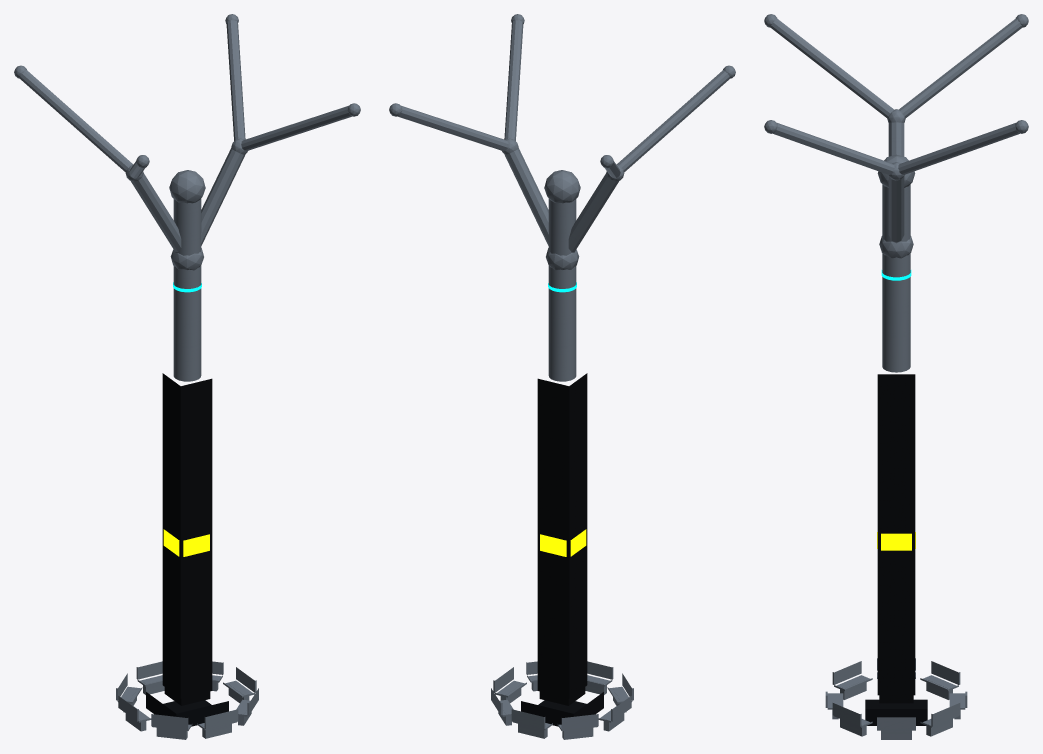
3 views of the same model, side by side, from view 1: azimuth 30°, elevation 25°; view 2: azimuth 150°, elevation 25°; view 3: azimuth 270°, elevation 25° (orthographic). The views are drawn at different scales.
Parts seen in each view (by area): view 1: Trunk_Clad, Tree_Steel, Bench_Ring, Pedestal_Concrete, Score_Band; view 2: Trunk_Clad, Tree_Steel, Bench_Ring, Pedestal_Concrete, Score_Band; view 3: Tree_Steel, Trunk_Clad, Bench_Ring, Pedestal_Concrete, Score_Band.
Part boxes in pixels (box(x1,y1,x2,y2)): Trunk_Clad: box(162, 373, 212, 698); Tree_Steel: box(14, 14, 360, 381); Bench_Ring: box(116, 661, 258, 739); Pedestal_Concrete: box(146, 692, 228, 726); Score_Band: box(163, 529, 209, 556); Trunk_Clad: box(537, 373, 587, 698); Tree_Steel: box(389, 14, 735, 381); Bench_Ring: box(491, 661, 633, 739); Pedestal_Concrete: box(521, 692, 603, 726); Score_Band: box(540, 529, 586, 556); Tree_Steel: box(764, 14, 1028, 372); Trunk_Clad: box(877, 374, 915, 695); Bench_Ring: box(825, 658, 967, 739); Pedestal_Concrete: box(865, 699, 927, 725); Score_Band: box(877, 532, 915, 550).
Size of the model in its own units: 8.45 by 22.73 by 8.45.
Materials: 5 (3 with a texture image).
